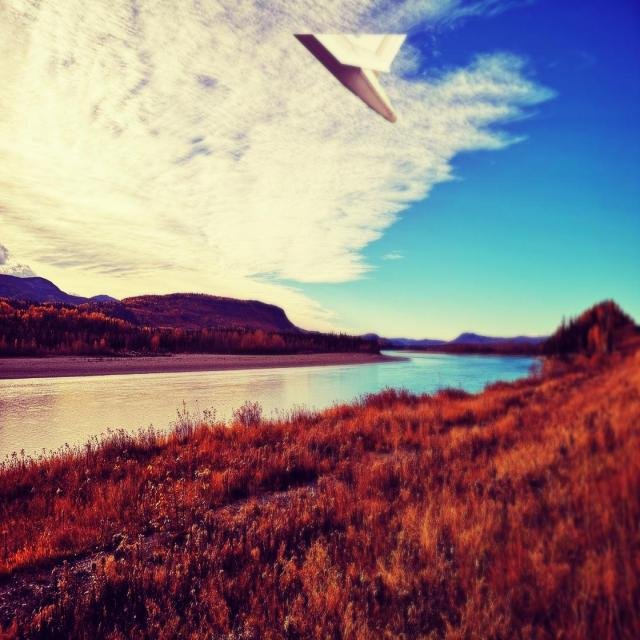airplane: (293, 31, 407, 122)
